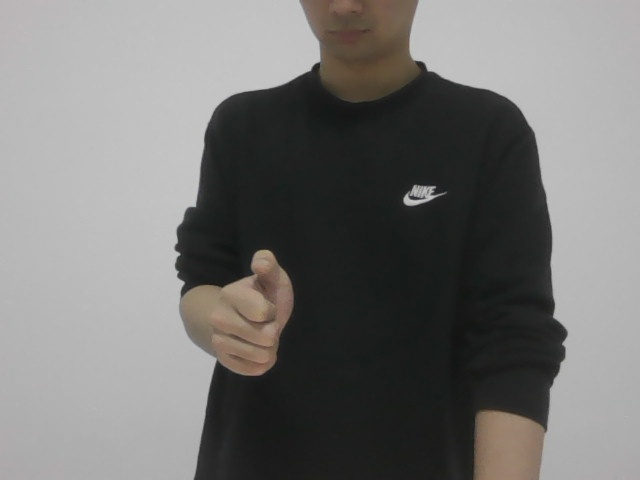thank you: (212, 246, 296, 377)
